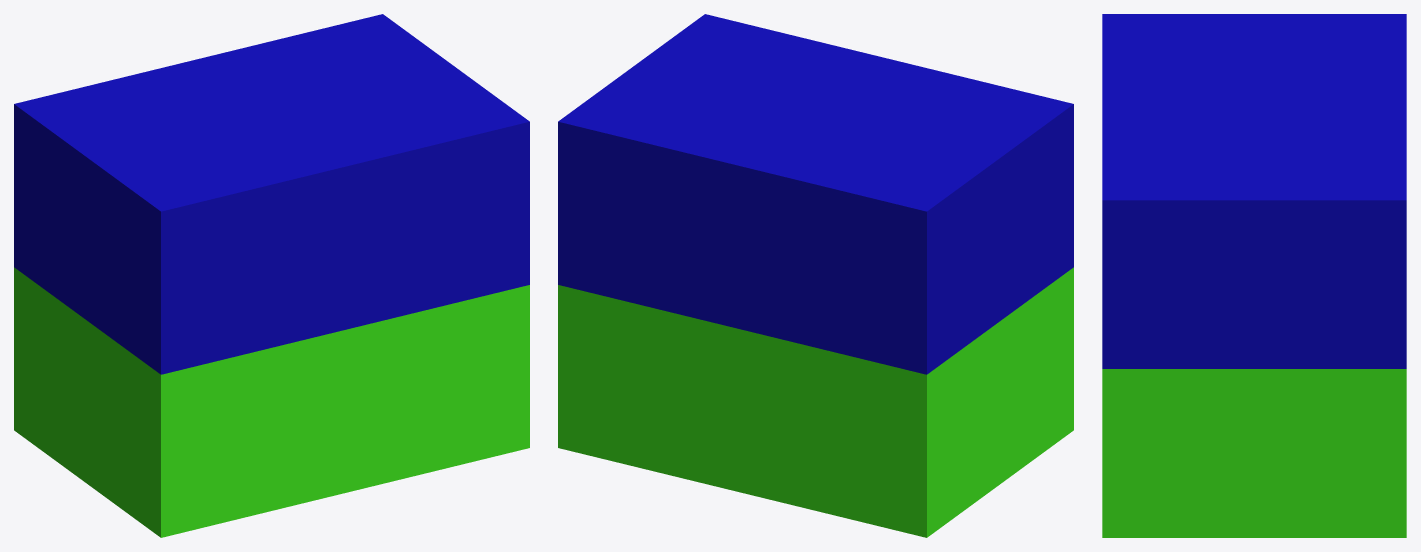
File: multi_texCoord.dae
3 renders of one model, left to right at view 1: azimuth 30°, elevation 25°; view 2: azimuth 150°, elevation 25°; view 3: azimuth 270°, elevation 25°, orthographic. The views are drawn at different scales.
Parts seen in each view (by area): view 1: Box01; view 2: Box01; view 3: Box01.
Boxes of the visible parts, left/top/right/bottom form: Box01: left=14, top=14, right=529, bottom=537; Box01: left=558, top=14, right=1073, bottom=537; Box01: left=1102, top=14, right=1406, bottom=537.
Bounding box in the file's own units: 161 × 111 × 136.
Materials: 2 (2 with a texture image).
